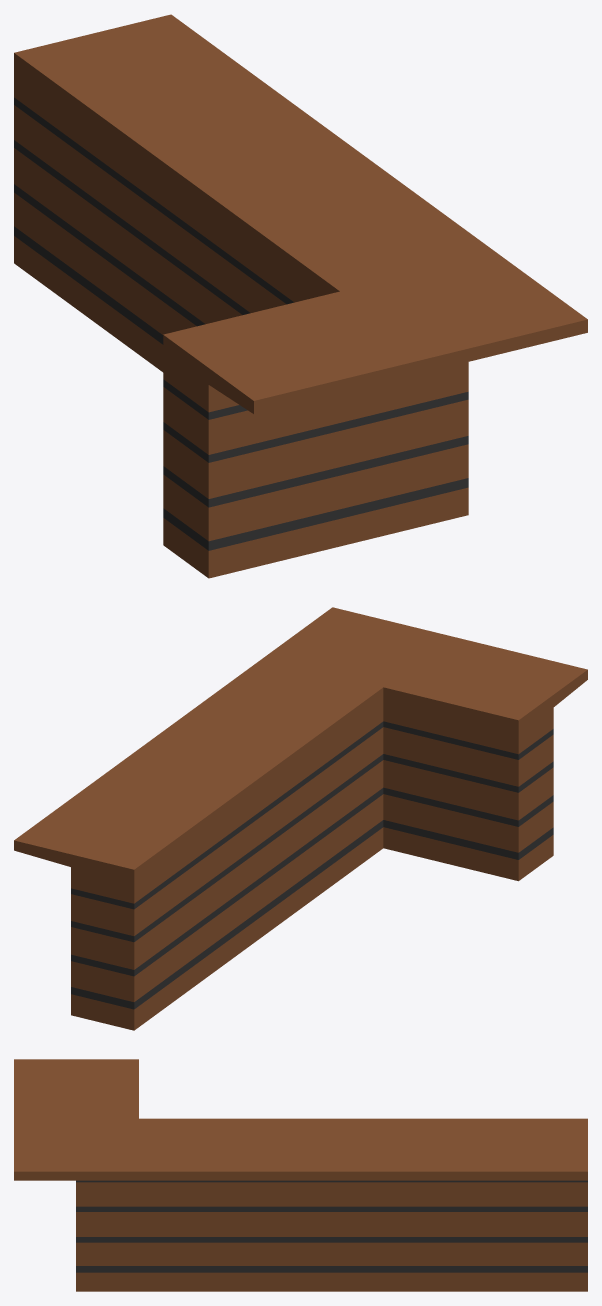
Rendered from bar.fbx.
3 views of the same model, one above another, from view 1: azimuth 30°, elevation 25°; view 2: azimuth 150°, elevation 25°; view 3: azimuth 270°, elevation 25° (orthographic). The views are drawn at different scales.
Parts seen in each view (by area): view 1: Cube; view 2: Cube; view 3: Cube.
Boxes of the visible parts, bbox=[...] form: Cube: bbox=[14, 14, 587, 578]; Cube: bbox=[14, 607, 587, 1030]; Cube: bbox=[14, 1059, 587, 1291].
Size of the model in its own units: 537 by 323 by 1159.
